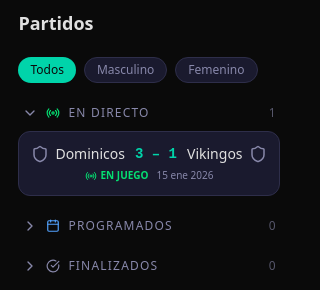
Test: MatchesTab › toggles section open/closed on click
Expected: the text "Dominicos" is shown, [55,144,125,164]
Note: Close En directo
Click the text "En directo". click: x=109, y=113
box: [68,105,150,121]
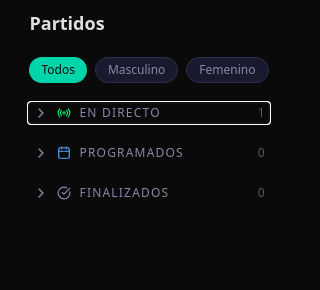
Expected: the link "Dominicos" is gone
Click the text "En directo". click: x=120, y=113
box: [80,105,161,121]
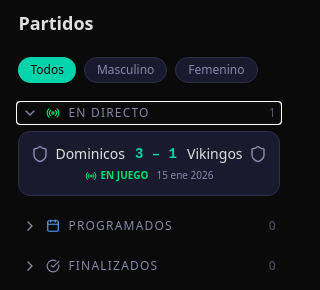
Expected: the text "Dominicos" is shown, [55,144,125,164]
